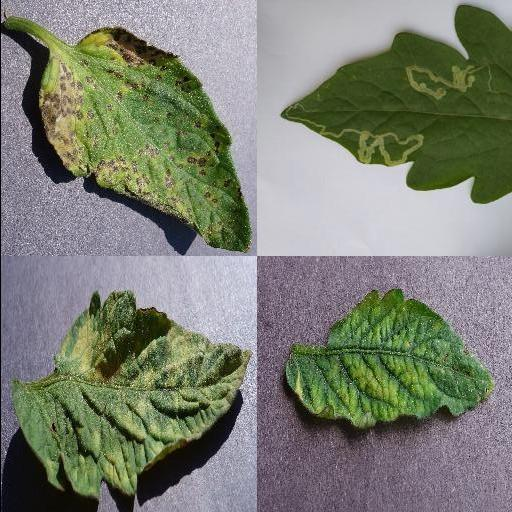Leaf Miner: (276, 4, 512, 204)
Leaf Mold: (8, 290, 252, 498)
Mosaic Virus: (279, 286, 501, 428)
Septoria: (36, 27, 252, 253)
